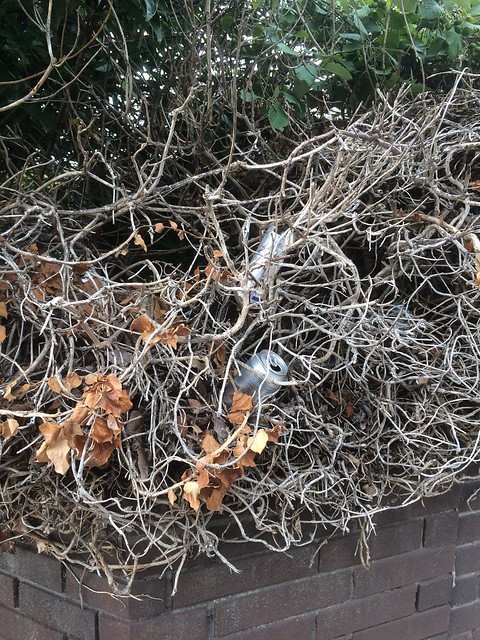can: (217, 350, 292, 419)
